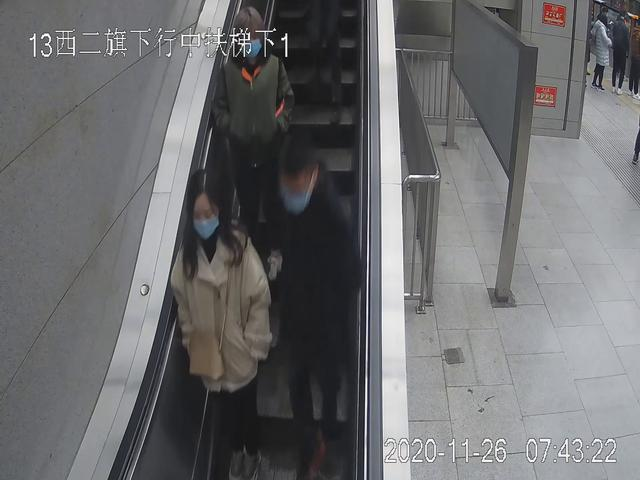person: (171, 170, 275, 480), (269, 142, 359, 480), (214, 7, 294, 278), (591, 14, 614, 88), (610, 13, 630, 92)
